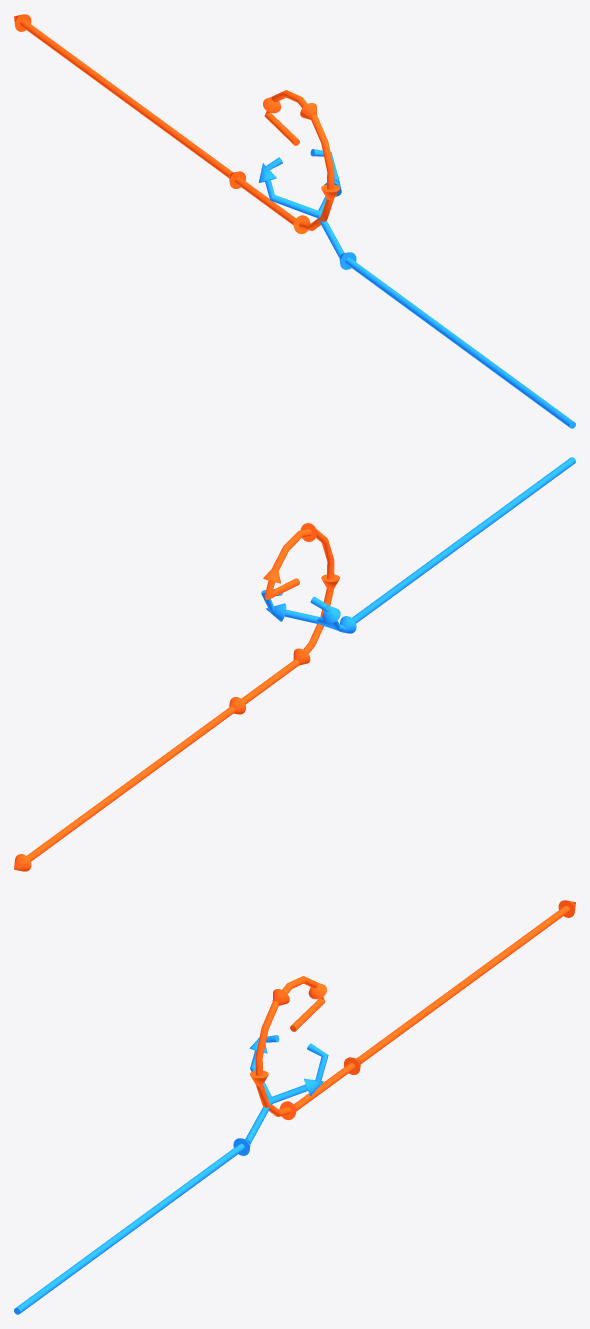
File: firewater_pump_package_flow.glb
3 renders of one model, top to bottom at view 1: azimuth 30°, elevation 25°; view 2: azimuth 150°, elevation 25°; view 3: azimuth 330°, elevation 25°, orthographic.
Parts seen in each view (by area): view 1: flow_discharge, flow_suction, flow_suction2; view 2: flow_discharge, flow_suction, flow_suction2; view 3: flow_discharge, flow_suction.
Boxes of the visible parts, bbox=[...] form: flow_discharge: bbox=[14, 14, 339, 233]; flow_suction: bbox=[310, 149, 575, 428]; flow_suction2: bbox=[258, 157, 320, 217]; flow_discharge: bbox=[14, 523, 339, 871]; flow_suction: bbox=[261, 457, 575, 633]; flow_suction2: bbox=[310, 596, 340, 629]; flow_discharge: bbox=[250, 900, 575, 1119]; flow_suction: bbox=[14, 1043, 328, 1314].
Size of the model in its own units: 0.2888 by 0.4981 by 3.64.
